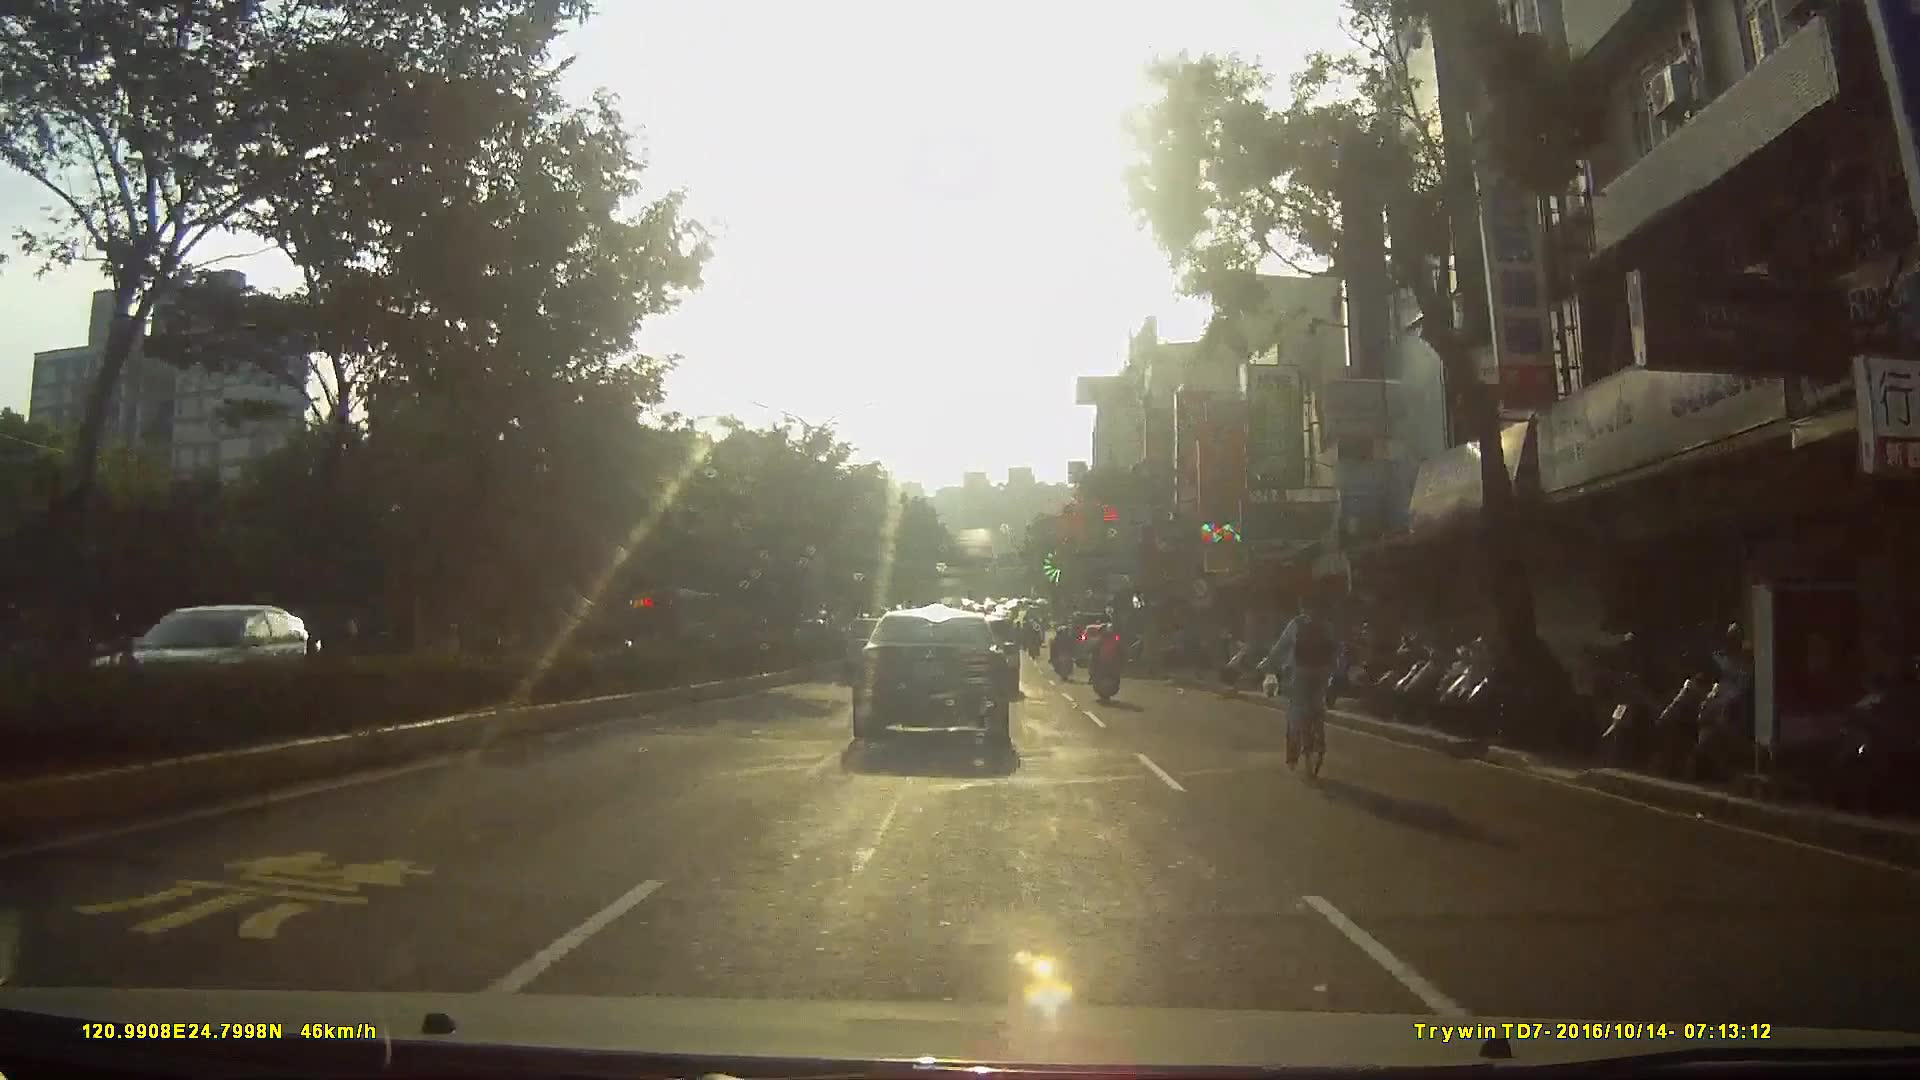rider: (1269, 588, 1348, 770), (1088, 623, 1122, 706), (1049, 621, 1077, 680)
vehicle: (854, 605, 1030, 767), (88, 599, 334, 713)
